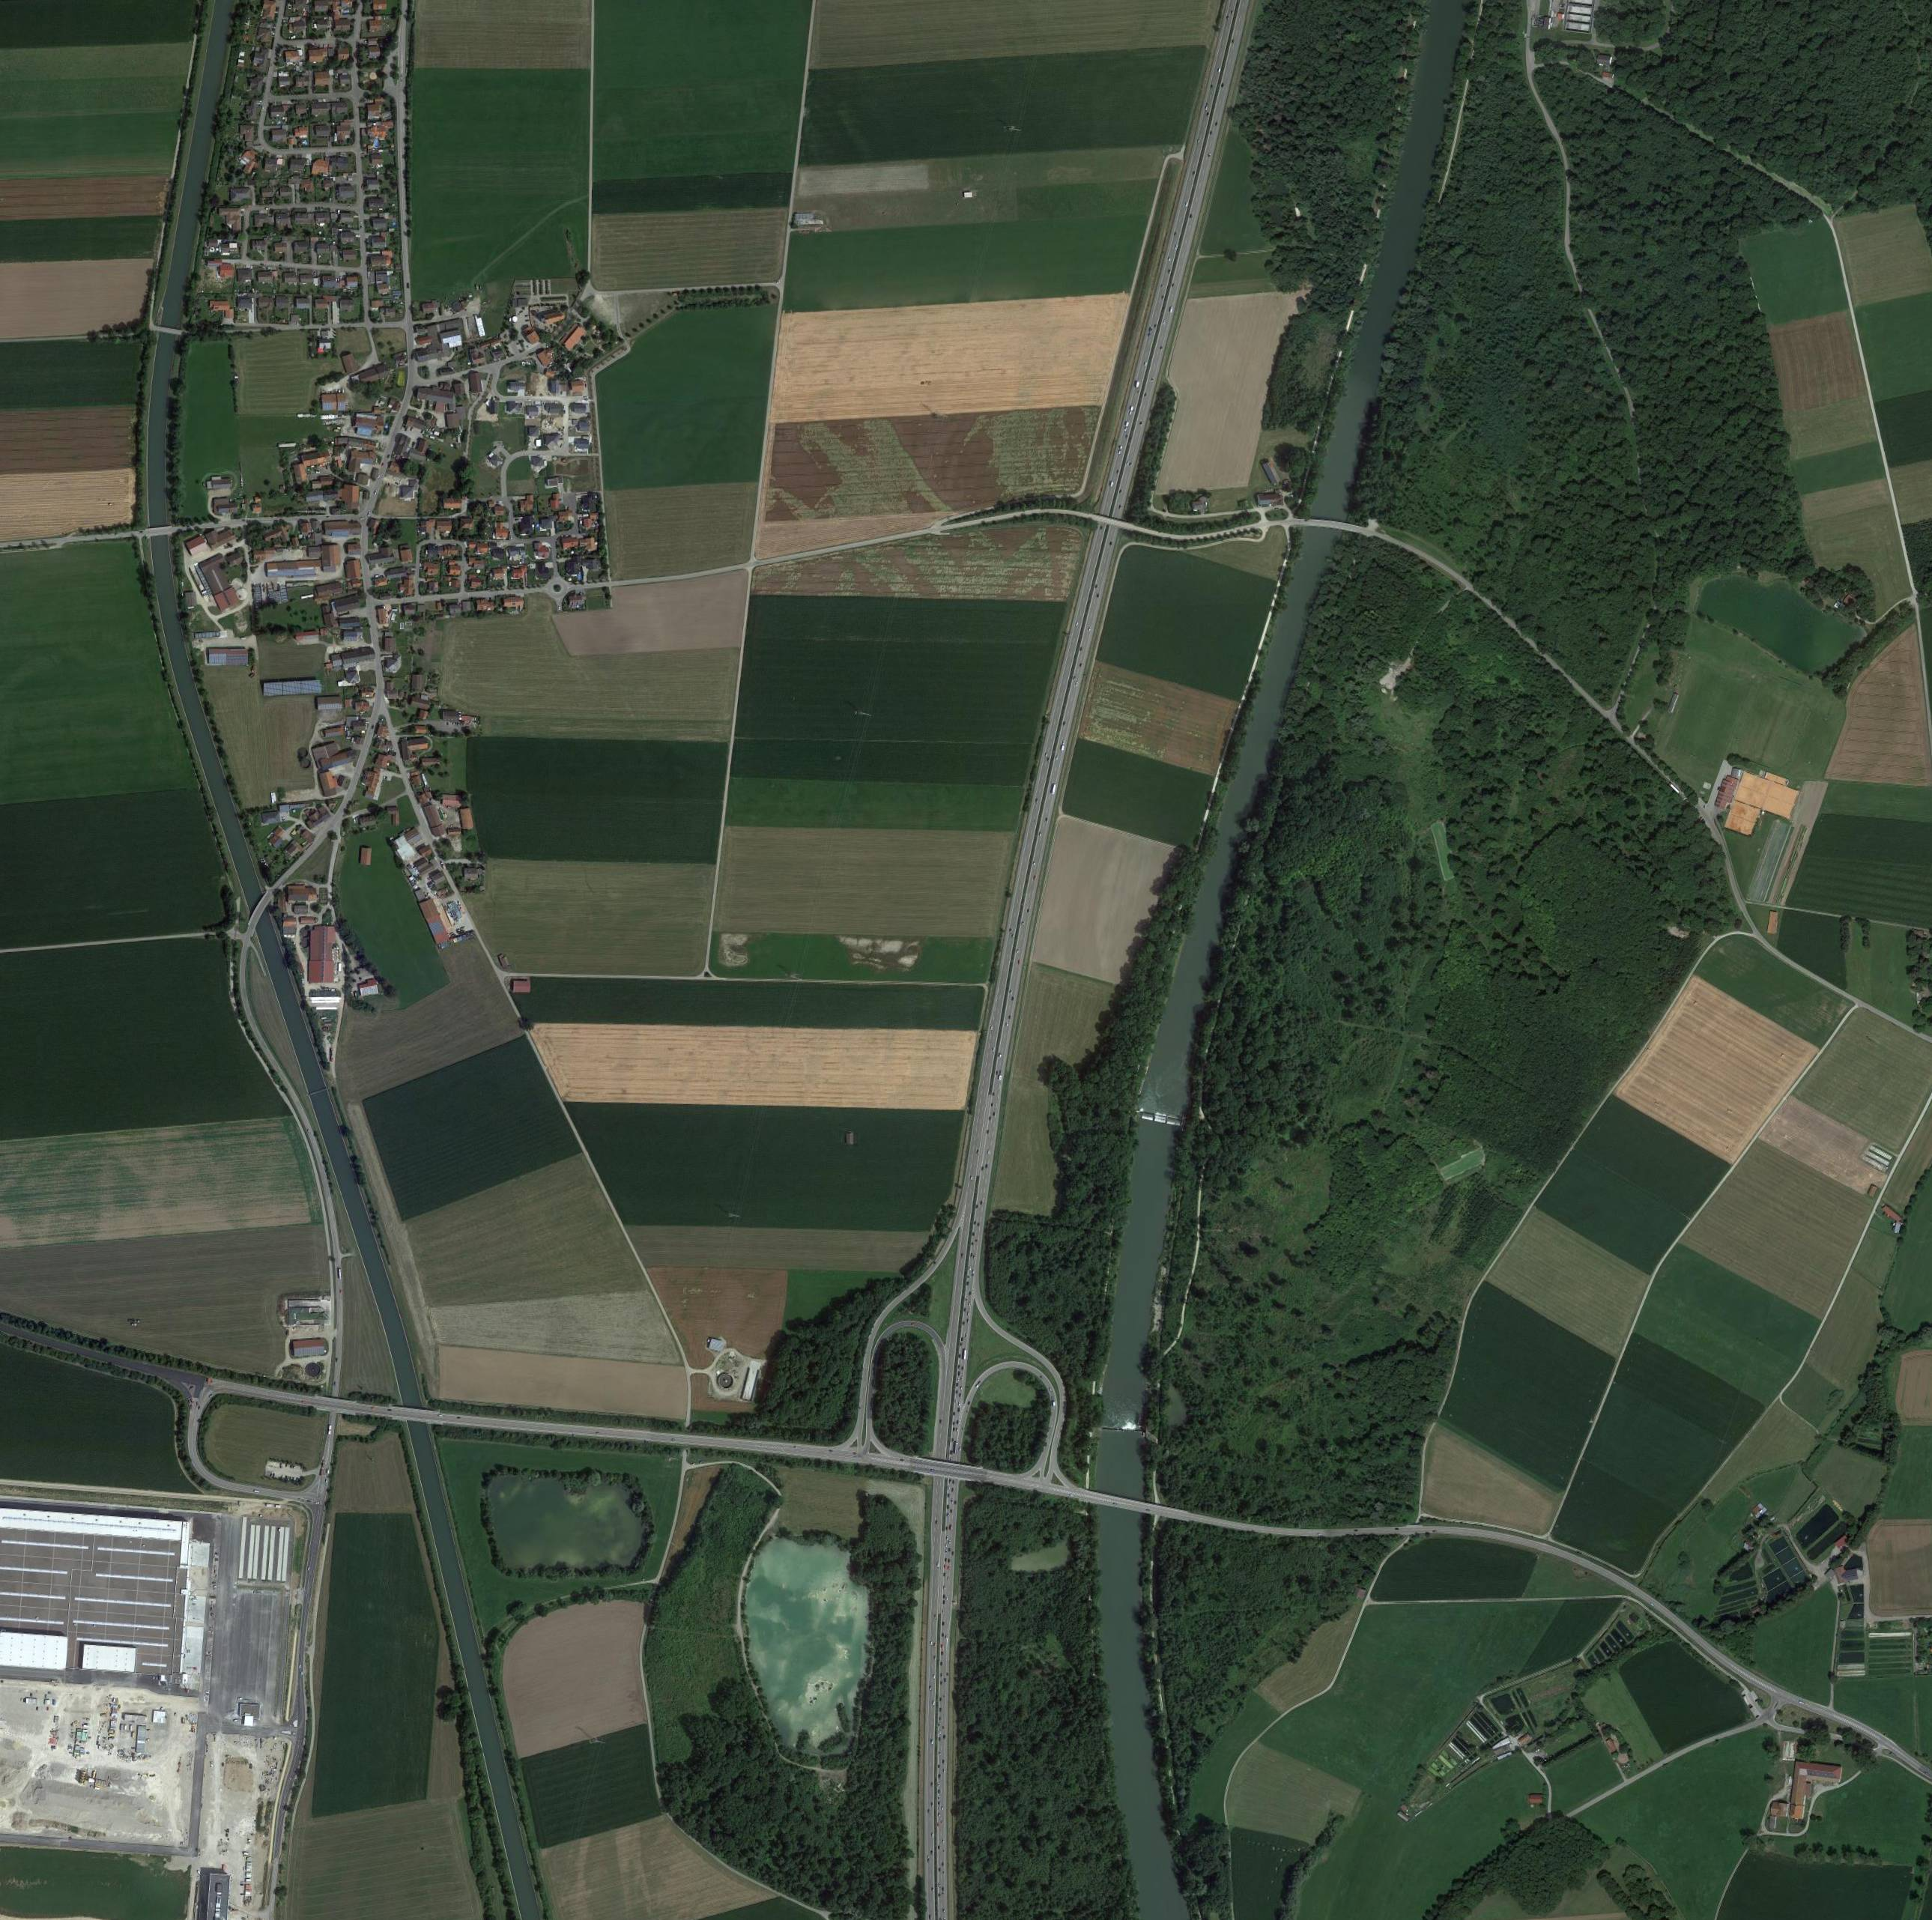bridge: (1090, 1489, 1148, 1514), (246, 891, 274, 927), (1303, 517, 1345, 533), (399, 1407, 429, 1424), (158, 325, 178, 336), (148, 526, 167, 536)
